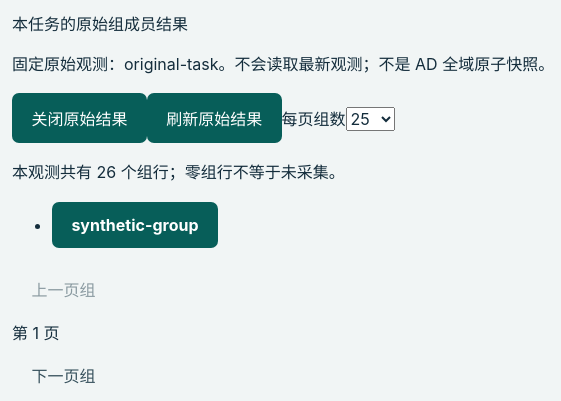
it: original-only v4 result presentation › clears page and detail on a failed original read without a latest fallback
Check: the button "synthetic-group" is shown, box [52,202,218,248]
Click the button "刷新原始结果": (214, 118) [147,93,282,143]
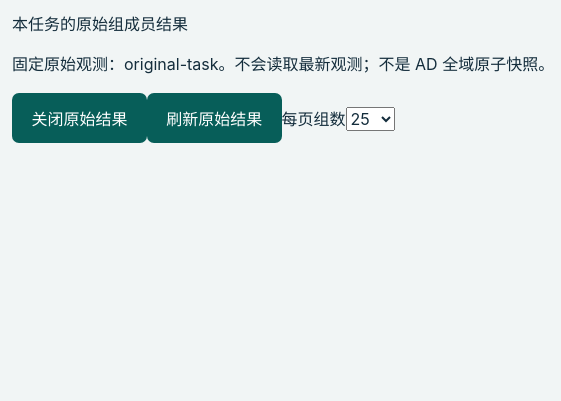
Check: the button "synthetic-group" is gone
